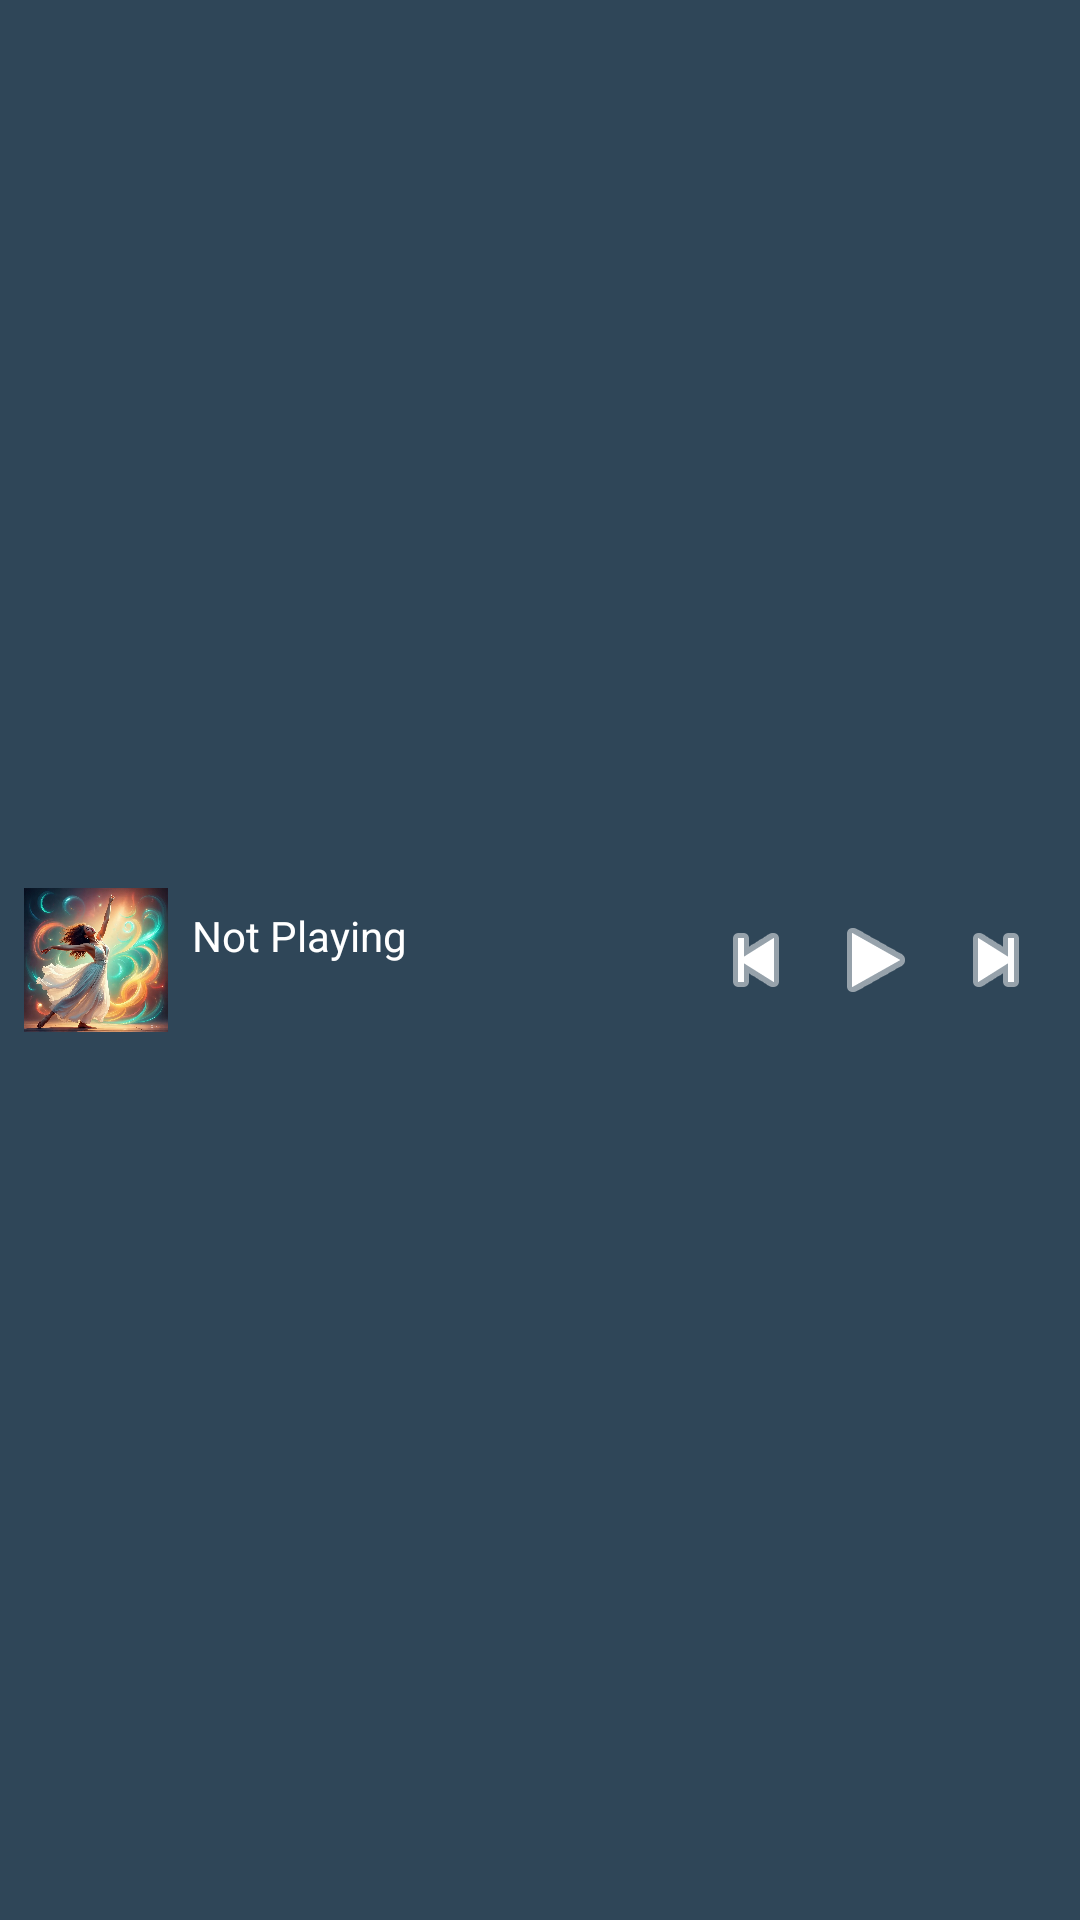

Point at icon controls on the screen. Image size 1080x1920, points as (x=x, y=y).
Album art: (x=96, y=960)
next: (x=996, y=960)
play: (x=876, y=960)
previous: (x=756, y=960)
